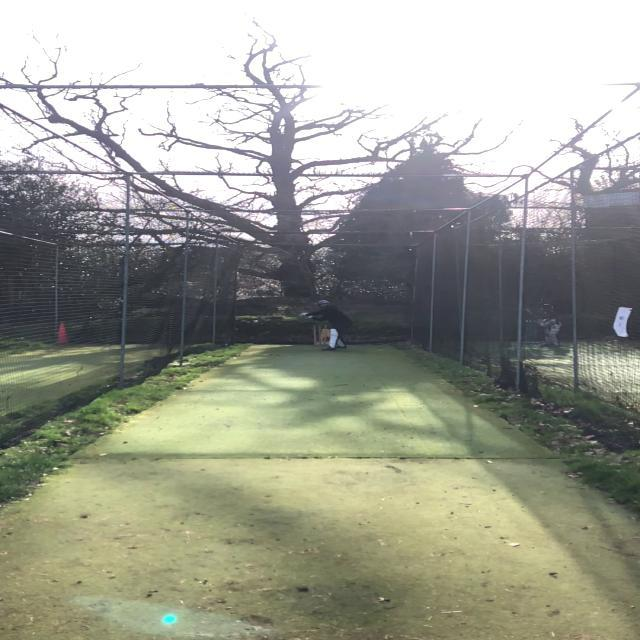ball: (253, 319, 259, 324)
